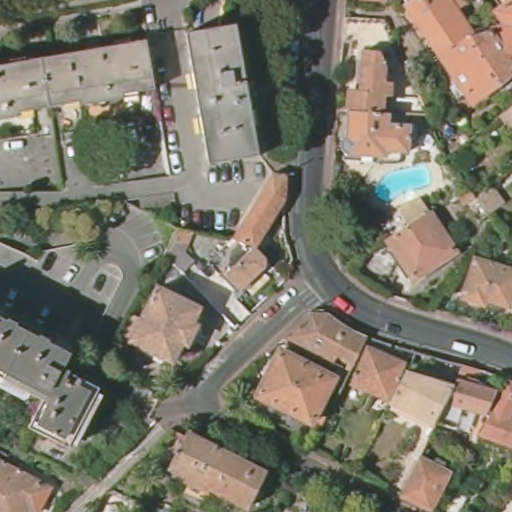pool: (366, 165, 433, 202)
